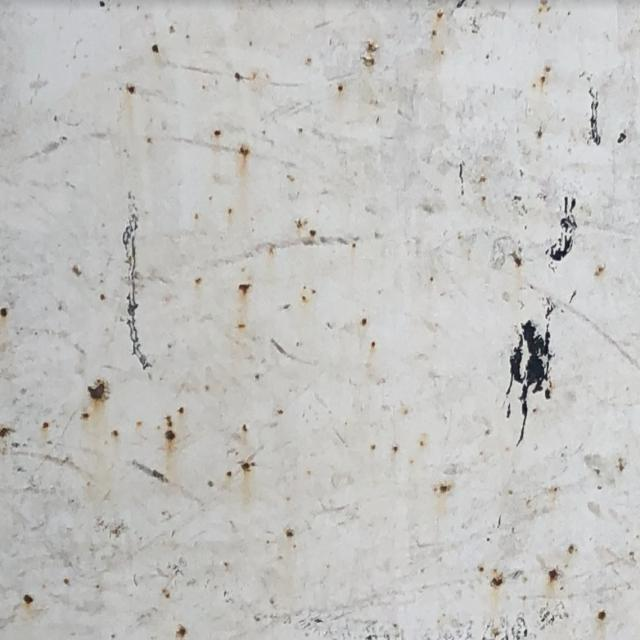Corrosion: (366, 431, 434, 460), (360, 313, 382, 349), (292, 214, 318, 242), (294, 280, 322, 305), (224, 460, 257, 480), (531, 62, 554, 90), (87, 380, 110, 405), (362, 39, 379, 70), (165, 410, 176, 446), (432, 5, 442, 39), (511, 247, 524, 272), (236, 281, 252, 300), (536, 0, 556, 15), (590, 263, 606, 280), (492, 572, 505, 592), (0, 424, 15, 441), (20, 592, 36, 607), (176, 623, 190, 640), (0, 301, 10, 322), (238, 143, 252, 158), (434, 484, 455, 494), (548, 565, 558, 584), (596, 607, 606, 625), (72, 261, 82, 278), (619, 451, 626, 474), (42, 414, 50, 432), (177, 407, 190, 417), (125, 84, 134, 98), (193, 274, 202, 288), (79, 411, 90, 422), (111, 428, 122, 439), (152, 41, 160, 56), (232, 71, 243, 81), (212, 126, 221, 138), (286, 526, 294, 539), (336, 83, 346, 93), (241, 423, 248, 433), (228, 204, 234, 212)
